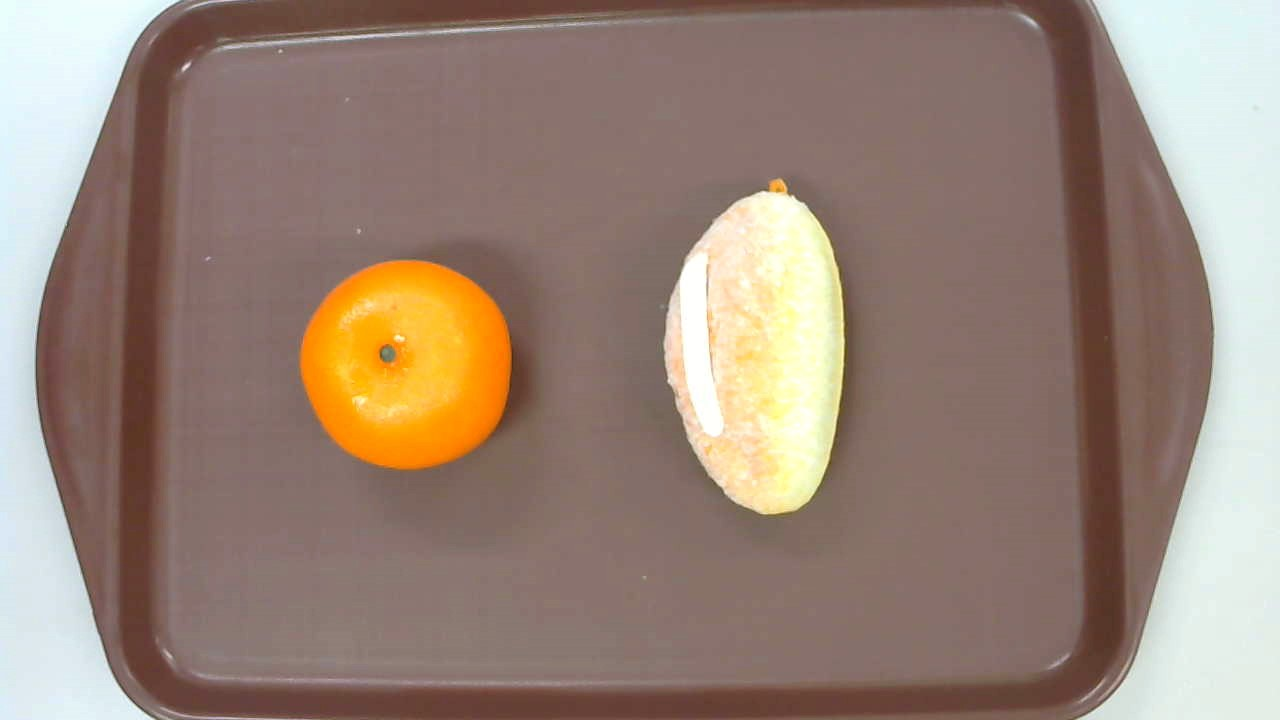coconut: (661, 178, 847, 517)
orange: (300, 259, 513, 469)
